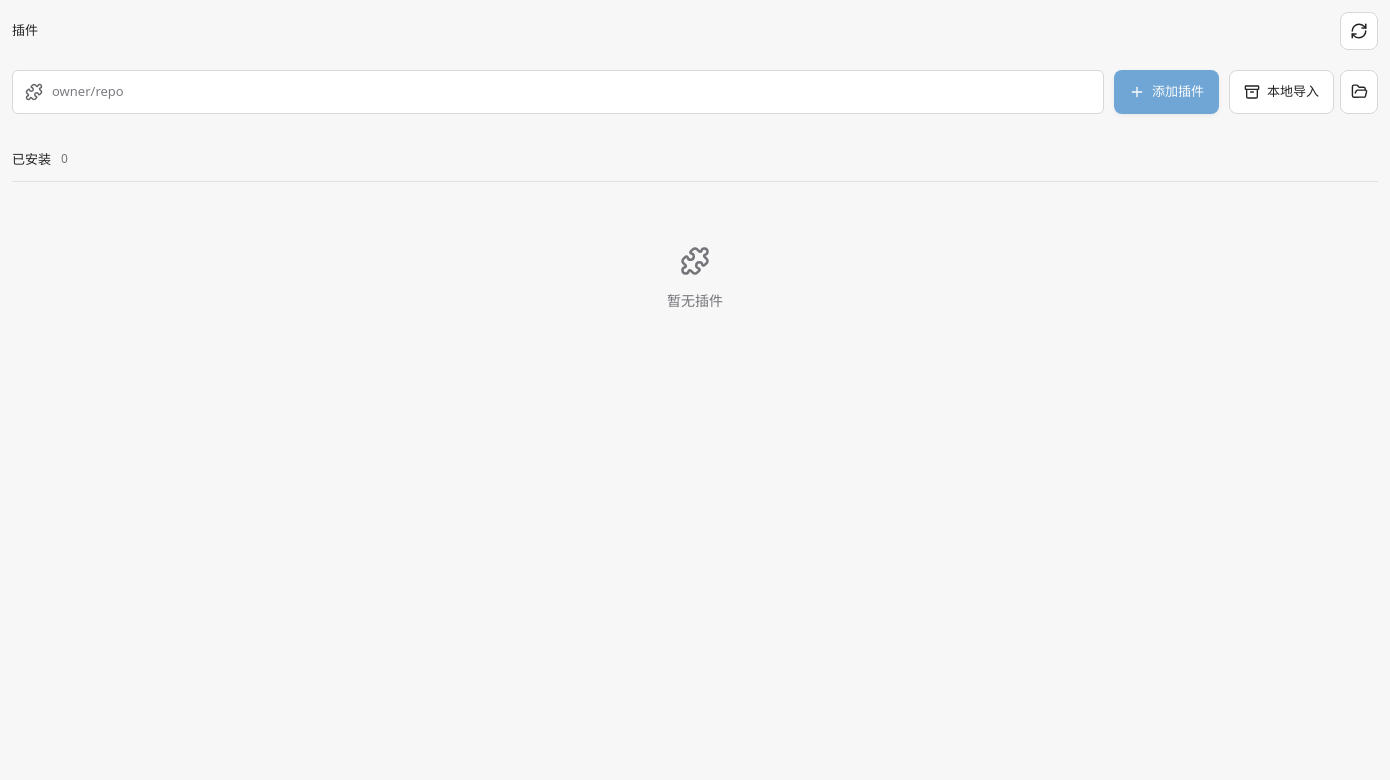
Scenario: plugin management › previews a local import and still requires trust (directory=true)
Step 1. Click the button named "导入插件目录" → (1359, 92), box [1340, 70, 1378, 114]
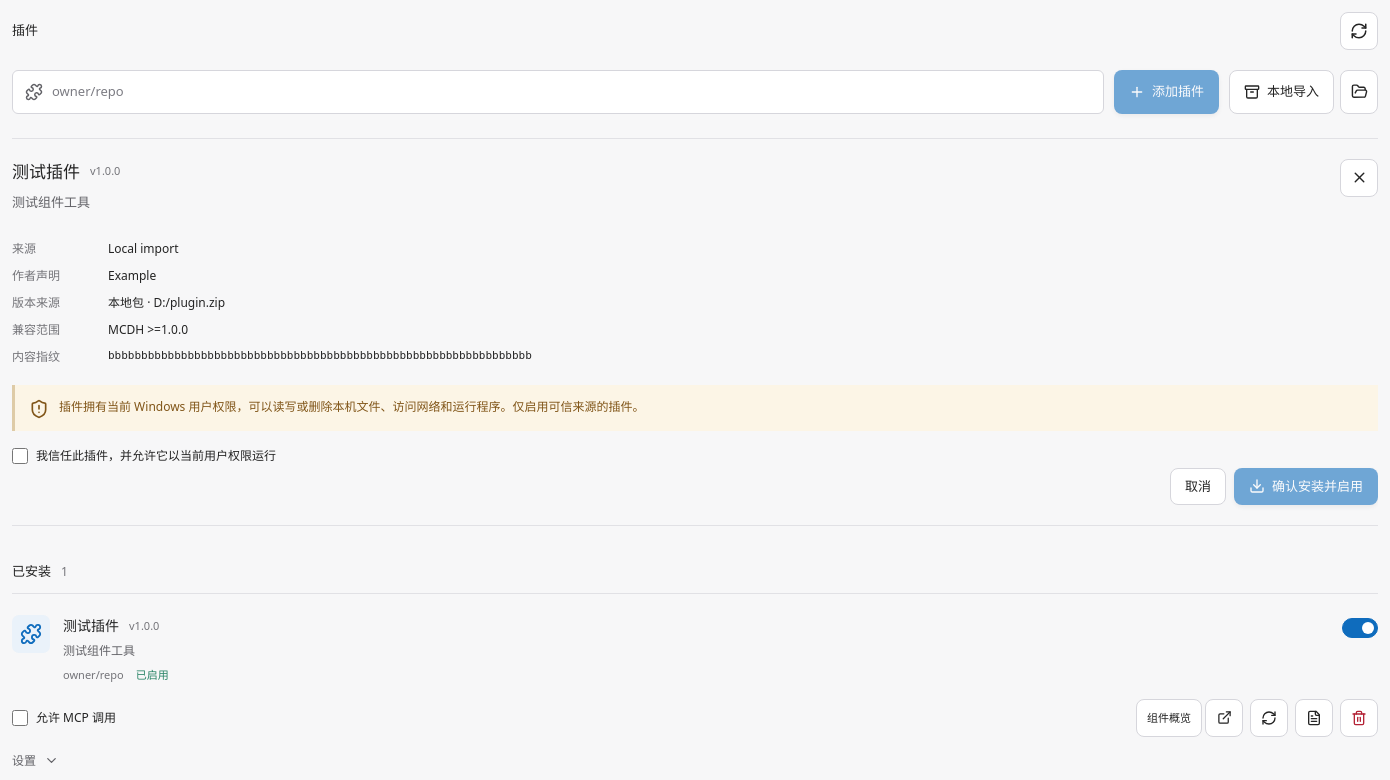
Check: the text "D:/plugin.zip" is shown, box [154, 294, 225, 311]
Check: the button "确认安装并启用" is disabled, box [1234, 468, 1378, 505]
